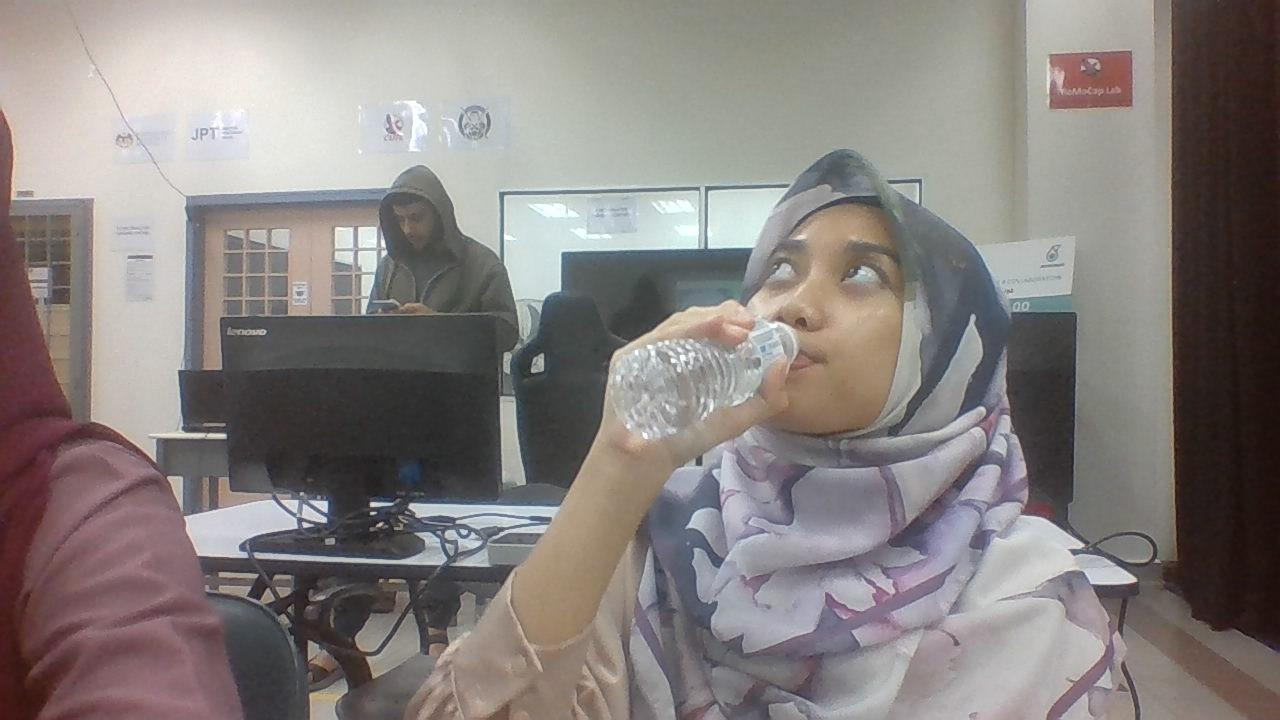Drinking: (606, 203, 897, 449)
